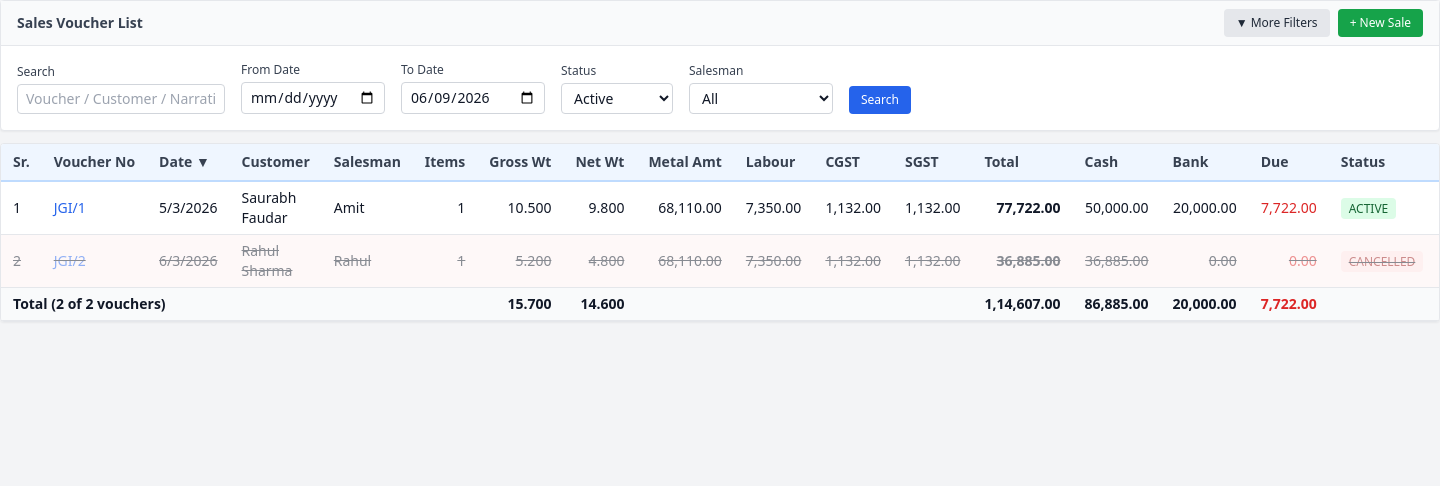
Test: SalesEntryList advanced filters › shows all advanced filter inputs when expanded
Click the button with test id "toggle-advanced" at (1277, 23), box [1224,9,1330,37]
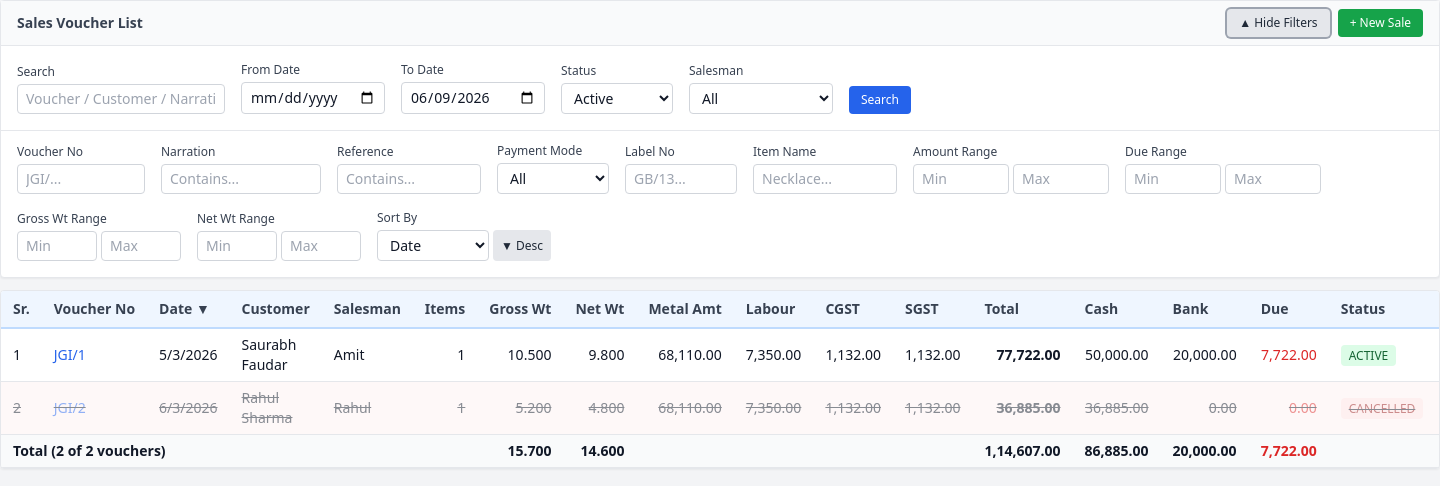
Expected: the field with test id "filter-voucherNo" is shown, [17,164,145,194]
Expected: the field with test id "filter-narration" is shown, [161,164,321,194]
Expected: the field with test id "filter-reference" is shown, [337,164,481,194]
